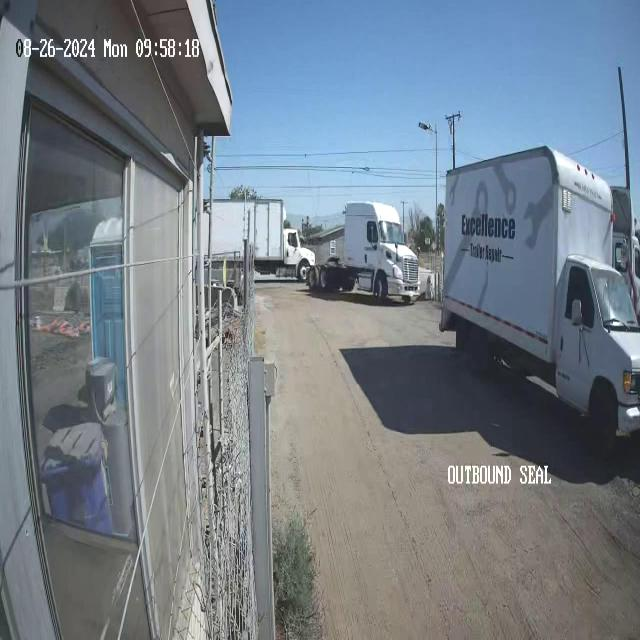CONTAINER: (438, 143, 614, 368)
